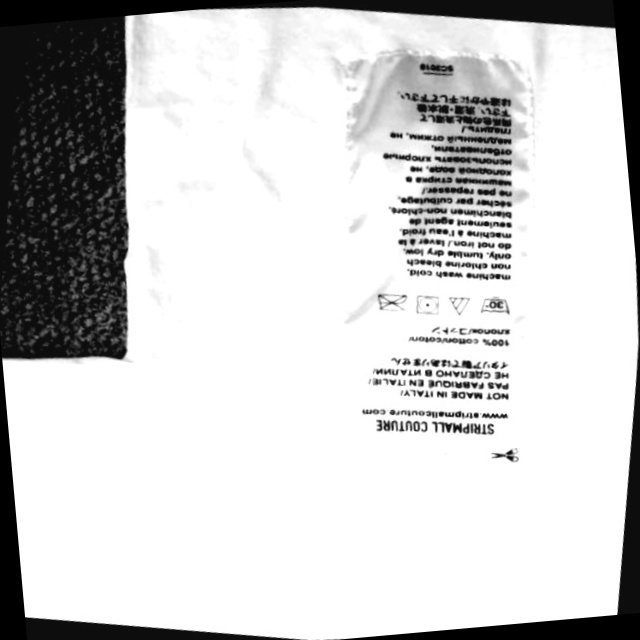30C: (474, 288, 518, 322)
DN_iron: (367, 284, 412, 323)
non_chlorine_bleach: (443, 290, 477, 320)
tumble_dry_low: (409, 287, 450, 321)
